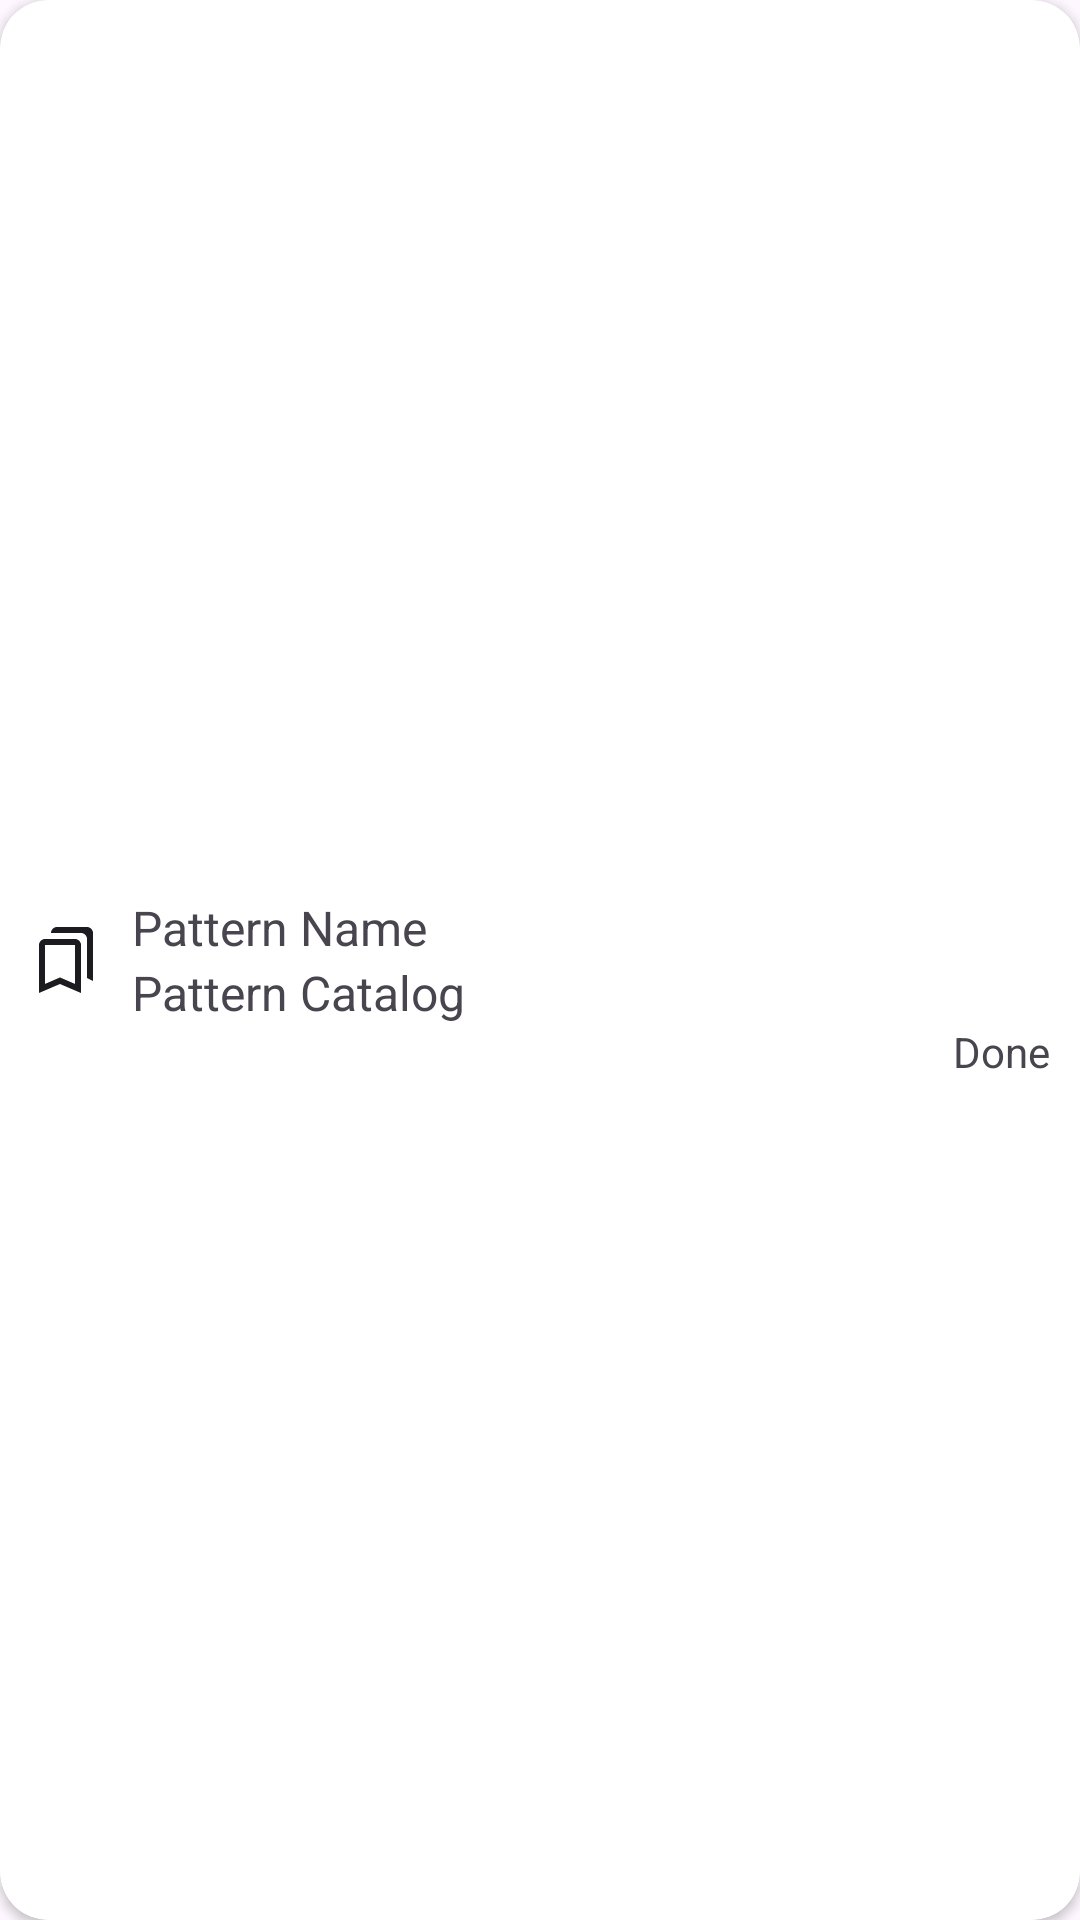

Icons on this 1080 × 1920 Android screen, each with the point to tap as [x,y]:
bookmark: [66,960]
